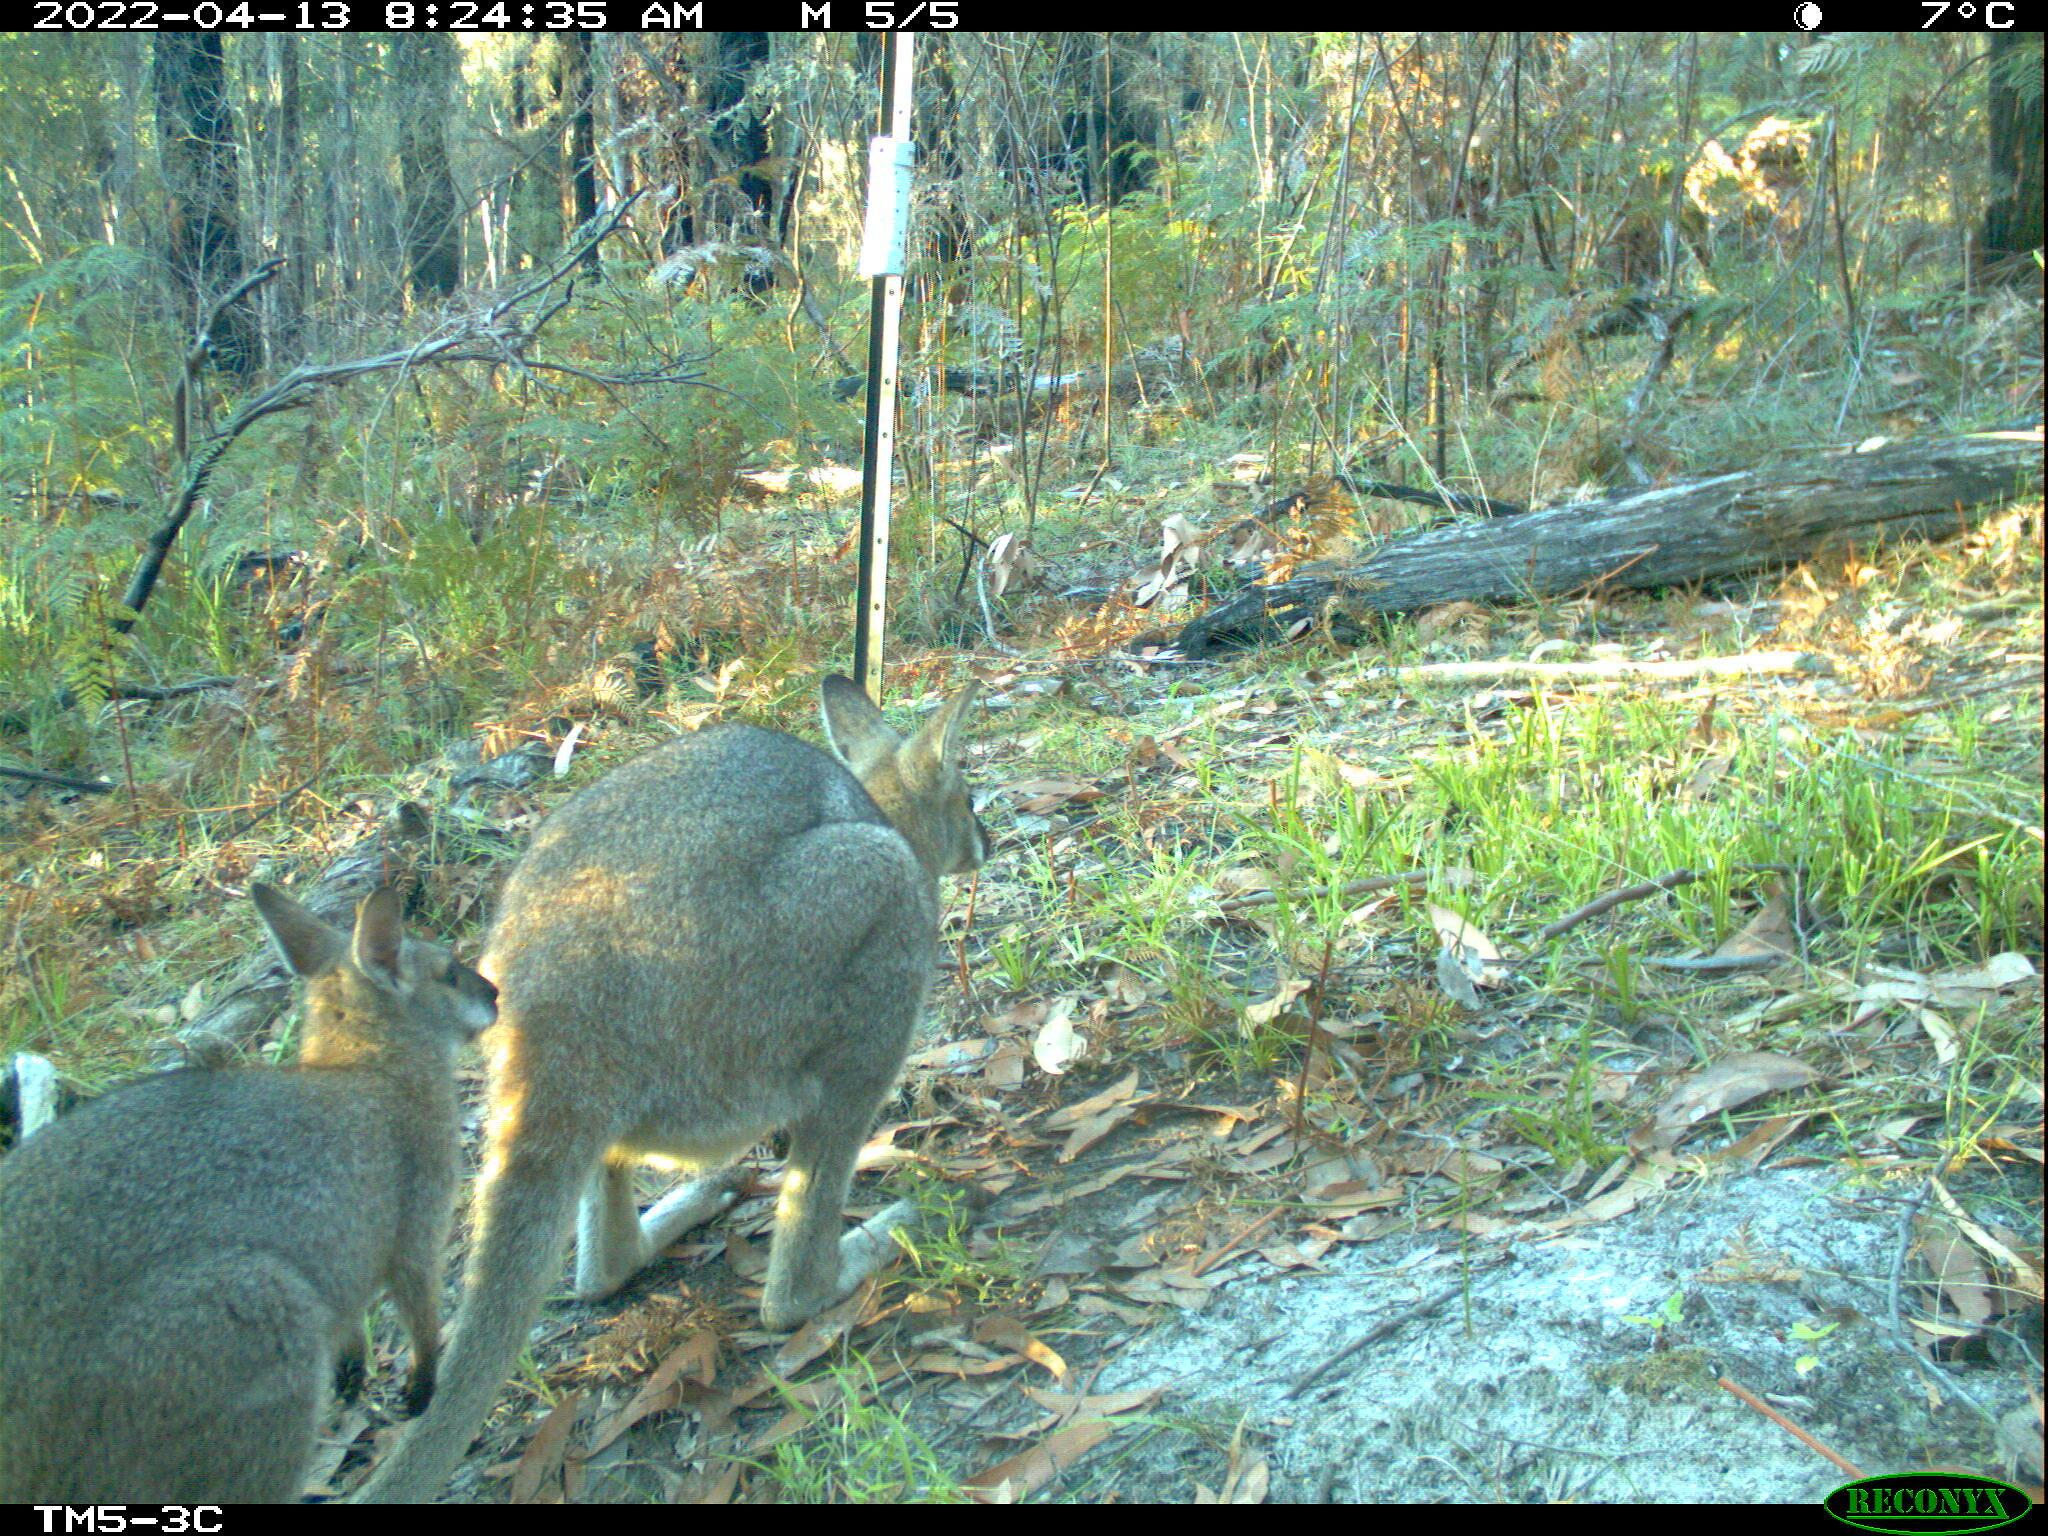Red-necked wallaby: (308, 673, 1000, 1507), (0, 878, 500, 1502)
